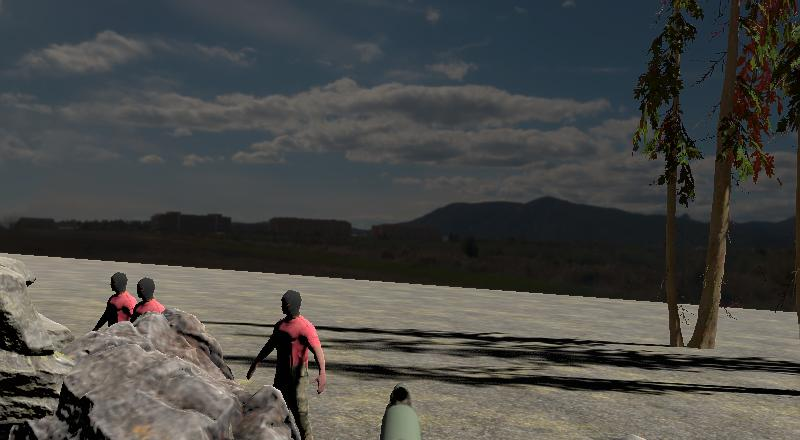Human: (247, 288, 328, 440)
